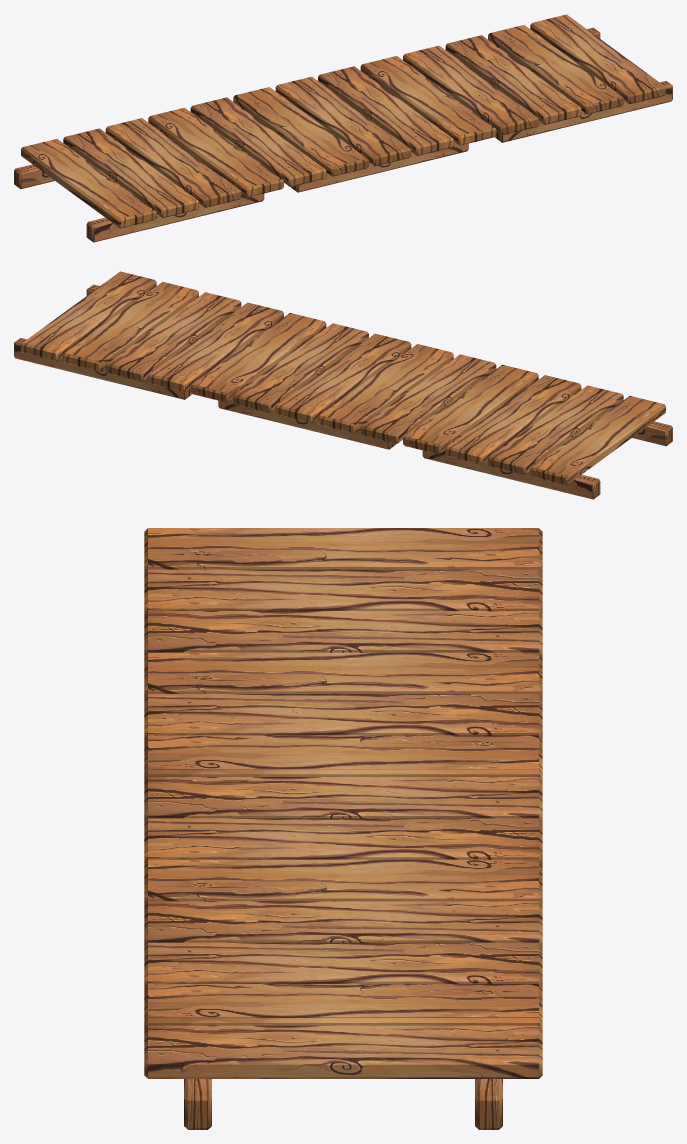
File: caminotablas.glb
The picture shows the model from 3 angles, top to bottom: view 1: azimuth 30°, elevation 25°; view 2: azimuth 150°, elevation 25°; view 3: azimuth 270°, elevation 25°; orthographic projection. The views are drawn at different scales.
Visible parts, largest first — view 1: Object_4; view 2: Object_4; view 3: Object_4.
Part boxes in pixels (left/top/right/bottom): Object_4: left=14, top=14, right=672, bottom=242; Object_4: left=14, top=271, right=672, bottom=499; Object_4: left=144, top=528, right=542, bottom=1129.
Size of the model in its own units: 3.37 by 0.15 by 1.
Materials: 1 (1 with a texture image).
